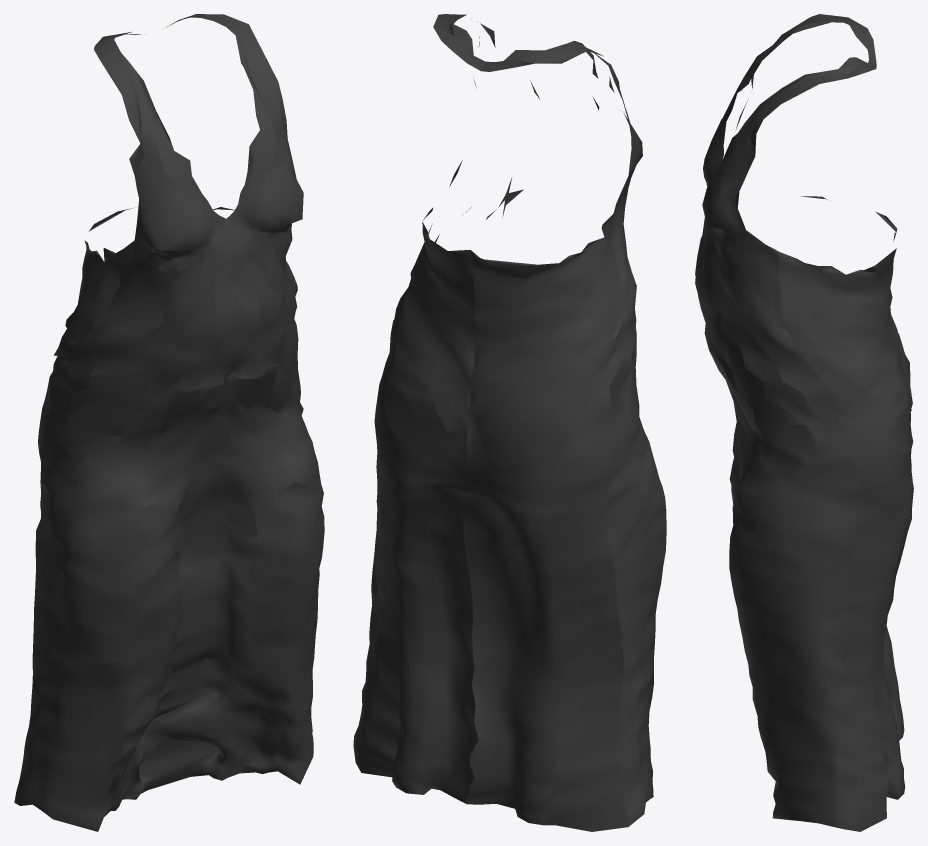
File: cc_halter.glb
3 renders of one model, left to right at view 1: azimuth 30°, elevation 25°; view 2: azimuth 150°, elevation 25°; view 3: azimuth 270°, elevation 25°, orthographic. The views are drawn at different scales.
Parts seen in each view (by area): view 1: geometry_0; view 2: geometry_0; view 3: geometry_0.
Part boxes in pixels (x1,y1,x2,y2): geometry_0: [14, 14, 324, 831]; geometry_0: [353, 14, 666, 831]; geometry_0: [695, 14, 913, 831].
Size of the model in its own units: 0.2647 by 0.6618 by 0.18.
Materials: 1 (1 with a texture image).
